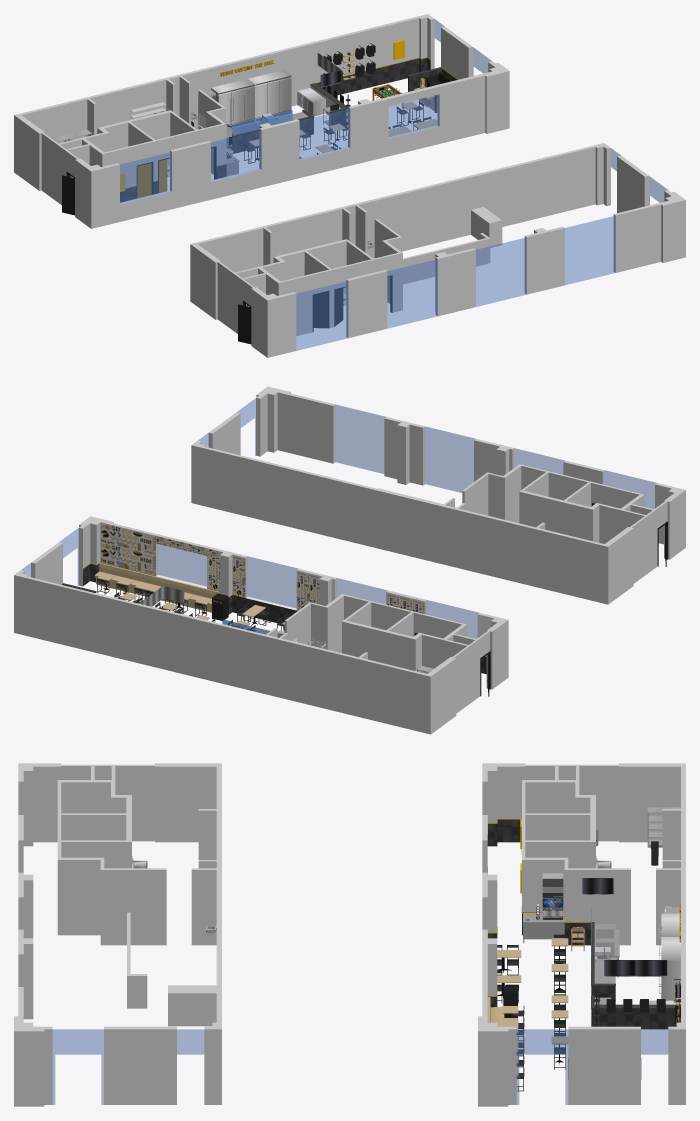
The picture shows the model from 3 angles, top to bottom: view 1: azimuth 30°, elevation 25°; view 2: azimuth 150°, elevation 25°; view 3: azimuth 270°, elevation 25°; orthographic projection. The views are drawn at different scales.
Visible parts, largest first — view 1: Walls, Root_surface_00, Root_surface_01, 3 Door Dridge_surface_00.001, 3 Door Dridge, Front walls, Glass#3, 3 Door Dridge_surface_00.002, FlushDoor#1_surface_00.005, FlushDoor#1_surface_00.006; view 2: Walls, Root_surface_00, Root_surface_01, Booth_Bench_4_Person#3, Generic Wall Mural.png, Generic Wall Mural.png.001, Generic Wall Mural.png.005; view 3: Root_surface_00, Walls, Root_surface_01, Front walls, 3 Door Dridge_surface_00.001, counter, 56013f91-9b97-4dad-bab0-e11b5c29878d#1, Group#422.
Boxes of the visible parts, box(x1,y1,x2,y2) form: Walls: box(14, 14, 509, 228); Root_surface_00: box(190, 143, 685, 357); Root_surface_01: box(296, 148, 667, 350); 3 Door Dridge_surface_00.001: box(248, 70, 291, 121); 3 Door Dridge: box(211, 79, 254, 126); Front walls: box(229, 85, 346, 153); Glass#3: box(230, 110, 292, 136); 3 Door Dridge_surface_00.002: box(297, 88, 325, 116); FlushDoor#1_surface_00.005: box(238, 304, 251, 344); FlushDoor#1_surface_00.006: box(313, 292, 327, 328); Walls: box(14, 516, 508, 734); Root_surface_00: box(191, 386, 685, 604); Root_surface_01: box(198, 398, 656, 508); Booth_Bench_4_Person#3: box(94, 563, 219, 612); Generic Wall Mural.png: box(100, 541, 155, 575); Generic Wall Mural.png.001: box(100, 522, 155, 554); Generic Wall Mural.png.005: box(232, 556, 245, 597); Root_surface_00: box(14, 763, 221, 1106); Walls: box(478, 763, 685, 1106); Root_surface_01: box(52, 1029, 204, 1104); Front walls: box(591, 986, 676, 1029); 3 Door Dridge_surface_00.001: box(659, 937, 680, 1000); counter: box(591, 922, 676, 1008); 56013f91-9b97-4dad-bab0-e11b5c29878d#1: box(647, 807, 680, 847); Group#422: box(542, 873, 563, 897).
Bounding box in the file's own units: 23.46 × 3.09 × 24.56.
Materials: 135 (51 with a texture image).
